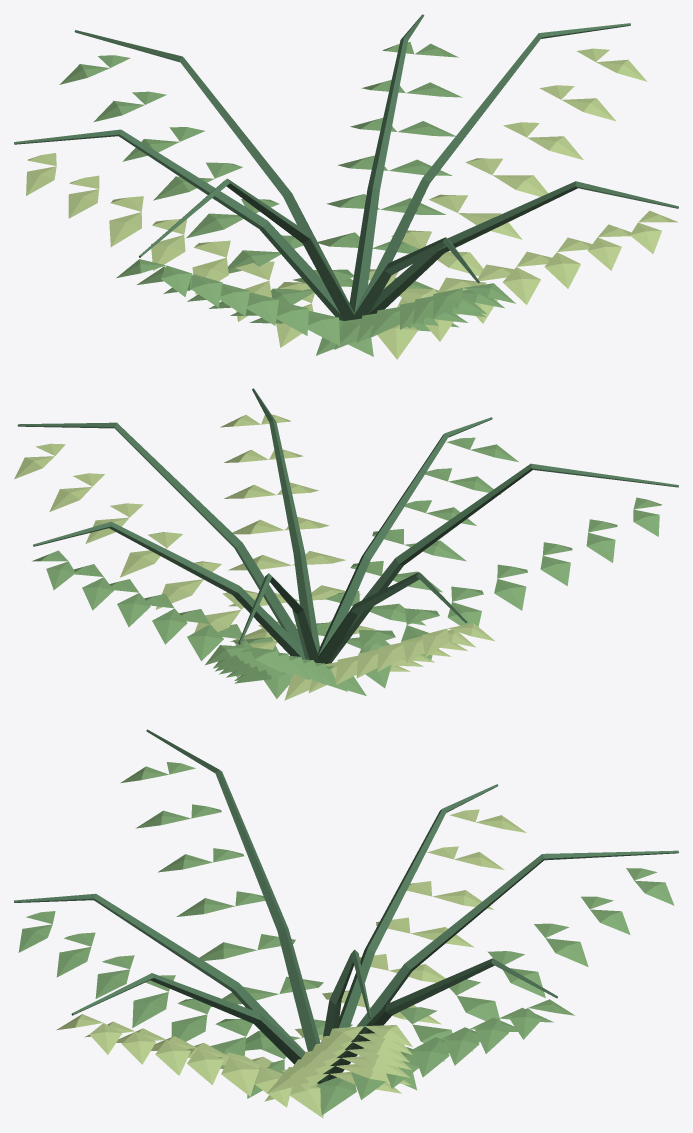
File: fern_v01.glb
The picture shows the model from 3 angles, top to bottom: view 1: azimuth 30°, elevation 25°; view 2: azimuth 150°, elevation 25°; view 3: azimuth 270°, elevation 25°; orthographic projection. The views are drawn at different scales.
Parts seen in each view (by area): view 1: Wildwuchs_deep_nocol, Wildwuchs_green_nocol, Wildwuchs_tip_nocol; view 2: Wildwuchs_green_nocol, Wildwuchs_deep_nocol, Wildwuchs_tip_nocol; view 3: Wildwuchs_green_nocol, Wildwuchs_deep_nocol, Wildwuchs_tip_nocol.
Boxes of the visible parts, x1,y1,x2,y2 form: Wildwuchs_deep_nocol: (14, 14, 678, 320); Wildwuchs_green_nocol: (59, 41, 515, 356); Wildwuchs_tip_nocol: (26, 48, 678, 359); Wildwuchs_green_nocol: (32, 437, 662, 698); Wildwuchs_deep_nocol: (17, 388, 678, 664); Wildwuchs_tip_nocol: (14, 414, 494, 700); Wildwuchs_green_nocol: (18, 762, 674, 1115); Wildwuchs_deep_nocol: (14, 729, 678, 1083); Wildwuchs_tip_nocol: (56, 809, 526, 1118).
Bounding box in the file's own units: 4.25 × 1.6 × 4.12.
